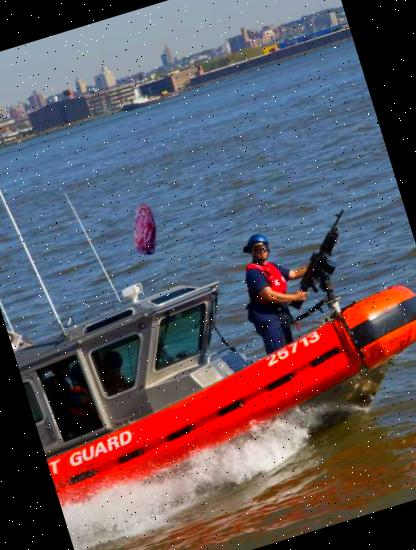Dates: (112, 196, 177, 261)
